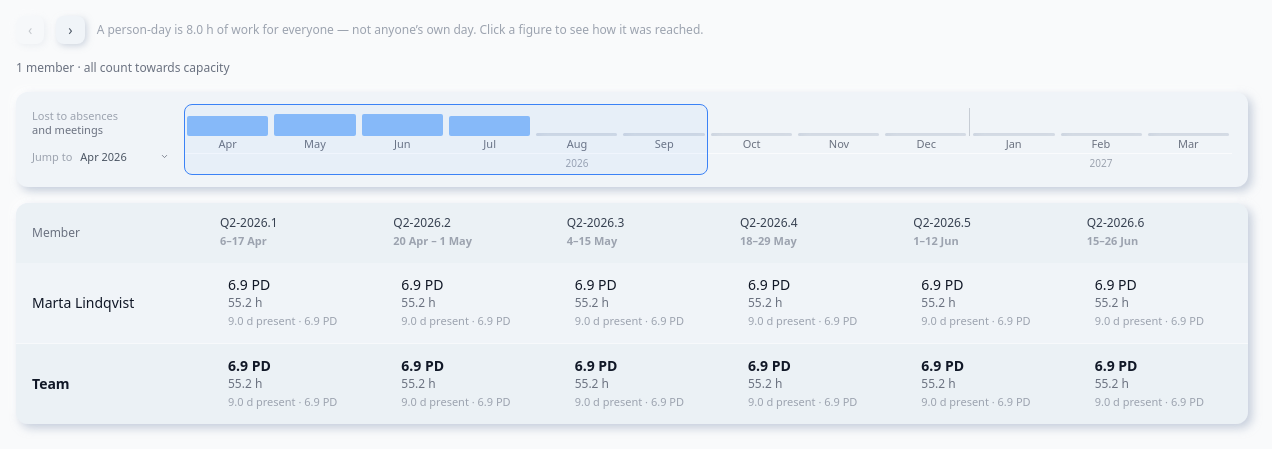
Test: TeamCapacityView minimap › jumps to a month too far away to drag to
Check: the column heading "Marta Lindqvist" is shown, box [16, 262, 208, 343]
Select "Jul 2026" in the dropdown named "Jump to month": (124, 156) [76, 142, 172, 170]
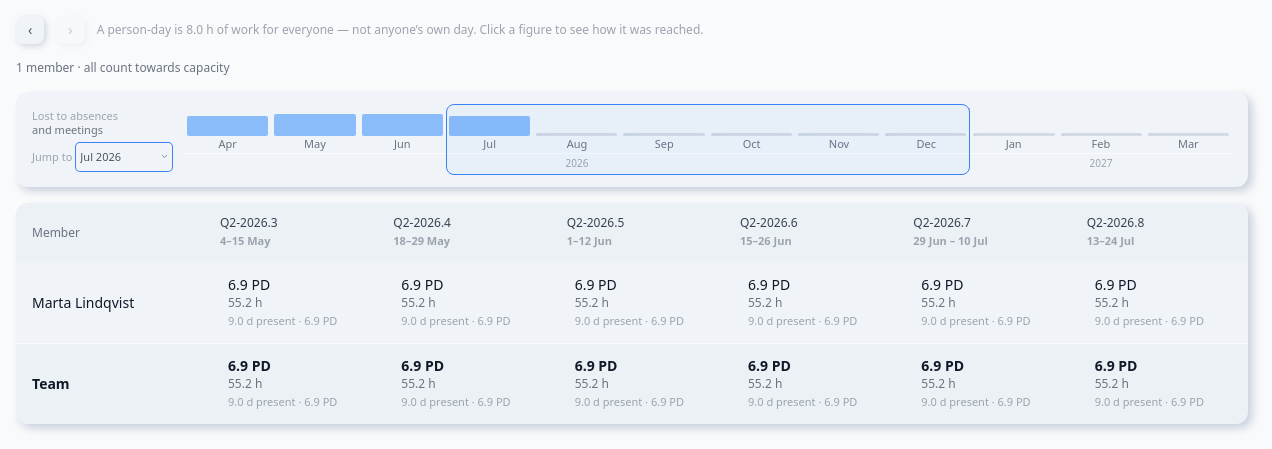
Check: the text "Q2-2026.7" is shown, box [913, 214, 971, 230]
